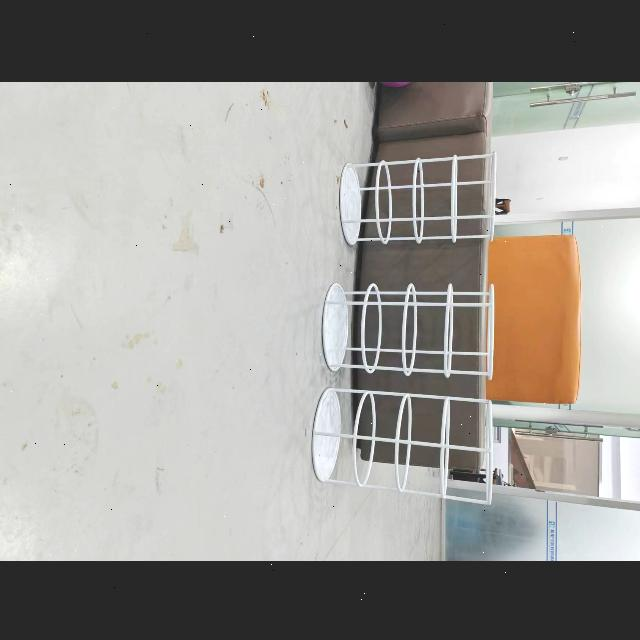S: (310, 385, 492, 493), (320, 282, 490, 376), (343, 151, 499, 241)
